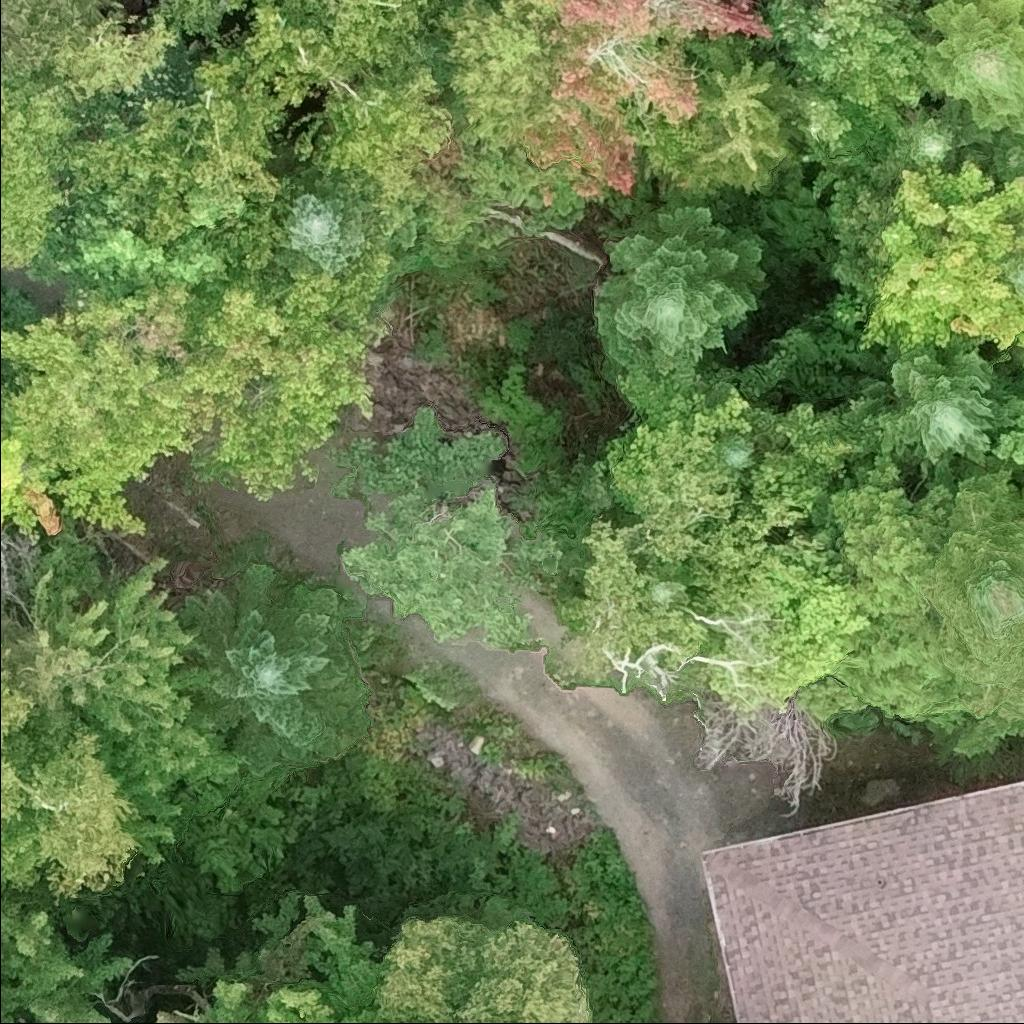crown: (0, 254, 390, 533), (332, 408, 542, 654), (519, 0, 774, 197), (57, 48, 283, 238), (242, 0, 451, 201), (183, 562, 370, 777), (771, 0, 948, 200), (0, 652, 141, 903), (834, 459, 967, 719), (854, 161, 1023, 353), (919, 464, 1023, 755), (597, 209, 763, 378), (374, 913, 596, 1023), (862, 349, 1021, 466), (1, 0, 183, 100), (441, 0, 553, 153), (0, 77, 72, 266), (927, 0, 1023, 137), (749, 392, 876, 489), (282, 188, 371, 276), (885, 95, 980, 171), (265, 991, 379, 1023), (710, 432, 760, 474), (990, 129, 1023, 181), (995, 404, 1023, 463), (1010, 260, 1023, 296), (206, 0, 277, 6), (1015, 346, 1023, 361)
